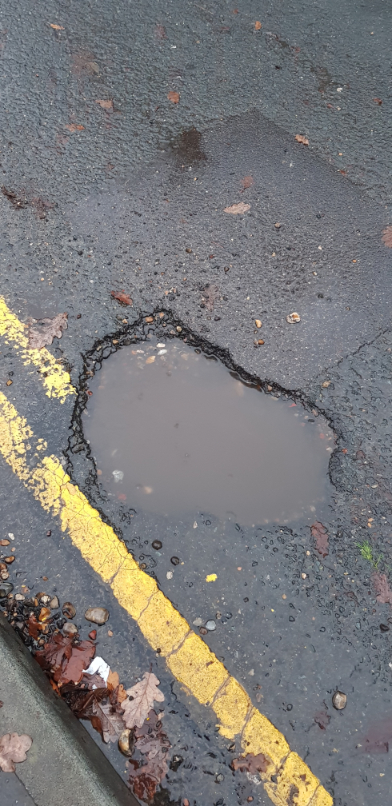pothole: (62, 305, 353, 537)
